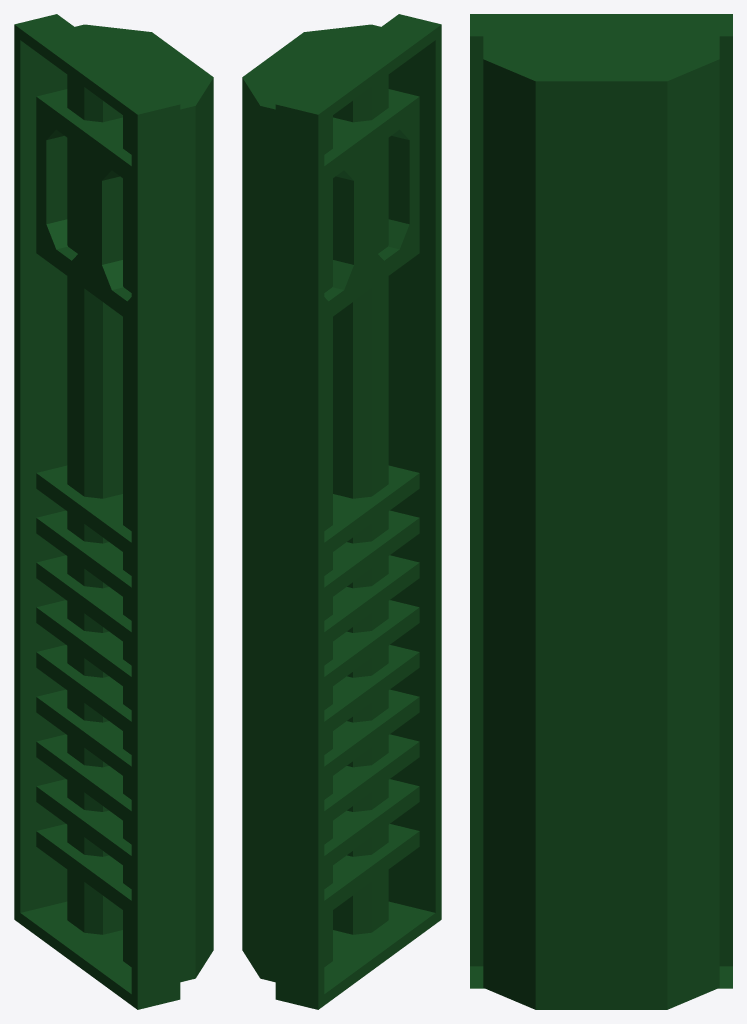
File: Wall_B_4x1m_B.FBX
The picture shows the model from 3 angles, left to right: view 1: azimuth 30°, elevation 25°; view 2: azimuth 150°, elevation 25°; view 3: azimuth 270°, elevation 25°; orthographic projection. The views are drawn at different scales.
Visible parts, largest first — view 1: Wall_B_4x1m_B; view 2: Wall_B_4x1m_B; view 3: Wall_B_4x1m_B.
Boxes of the visible parts, <box> form: Wall_B_4x1m_B: <box>14,14,213,1009</box>; Wall_B_4x1m_B: <box>242,14,441,1009</box>; Wall_B_4x1m_B: <box>470,14,732,1009</box>.
Size of the model in its own units: 50 by 400 by 100.
